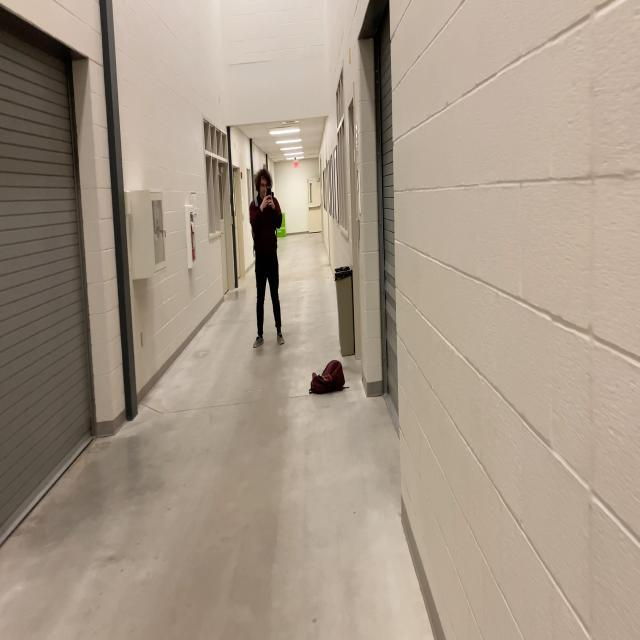Backpacks: (310, 359, 346, 396)
